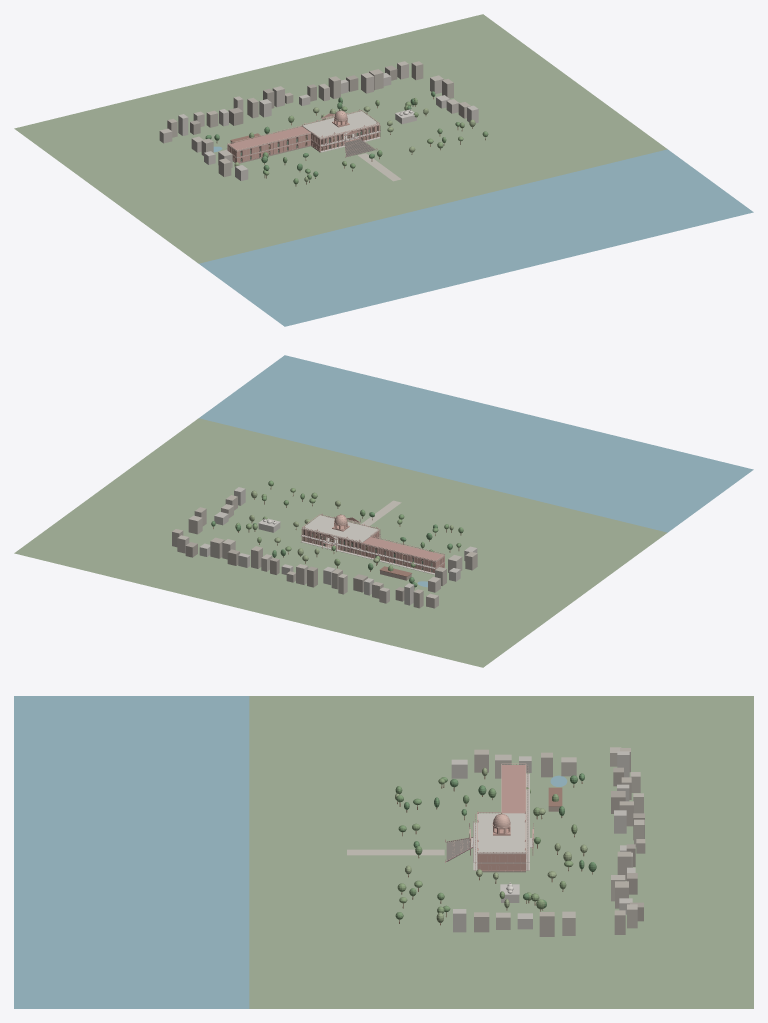
Rendered from ahsan-manzil-lod3.glb.
The picture shows the model from 3 angles, top to bottom: view 1: azimuth 30°, elevation 25°; view 2: azimuth 150°, elevation 25°; view 3: azimuth 270°, elevation 25°; orthographic projection. The views are drawn at different scales.
Visible parts, largest first — view 1: Site_Ground, Site_River, Site_Context_Blocks, Site_Trees, Rangmahal_FF, Andarmahal, RoofDeck; view 2: Site_Ground, Site_River, Site_Context_Blocks, Site_Trees, Rangmahal_FF, Veranda_N, Andarmahal, RoofDeck; view 3: Site_Ground, Site_River, Site_Context_Blocks, Site_Trees, Rangmahal_FF, RoofDeck, Site_Approach.
Part boxes in pixels (x1=…): Site_Ground: x1=14, y1=14, x2=667, y2=263; Site_River: x1=199, y1=149, x2=753, y2=326; Site_Context_Blocks: x1=159, y1=61, x2=478, y2=180; Site_Trees: x1=205, y1=91, x2=488, y2=186; Rangmahal_FF: x1=302, y1=111, x2=379, y2=145; Andarmahal: x1=228, y1=133, x2=310, y2=162; RoofDeck: x1=228, y1=126, x2=310, y2=150; Site_Ground: x1=14, y1=418, x2=667, y2=667; Site_River: x1=199, y1=355, x2=753, y2=532; Site_Context_Blocks: x1=172, y1=487, x2=477, y2=608; Site_Trees: x1=211, y1=480, x2=463, y2=589; Rangmahal_FF: x1=302, y1=515, x2=379, y2=548; Veranda_N: x1=301, y1=529, x2=435, y2=574; Andarmahal: x1=361, y1=543, x2=444, y2=572; RoofDeck: x1=362, y1=537, x2=444, y2=561; Site_Ground: x1=249, y1=696, x2=753, y2=1008; Site_River: x1=14, y1=696, x2=249, y2=1008; Site_Context_Blocks: x1=451, y1=747, x2=645, y2=936; Site_Trees: x1=395, y1=767, x2=596, y2=925; Rangmahal_FF: x1=477, y1=813, x2=526, y2=862; RoofDeck: x1=481, y1=765, x2=525, y2=853; Site_Approach: x1=347, y1=849, x2=444, y2=855.
Bounding box in the file's own units: 440 × 27.13 × 440.
